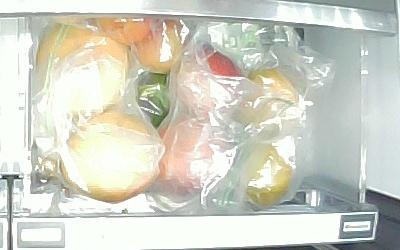apple_vinyl: (158, 113, 236, 201), (172, 43, 242, 112)
grapefruit_vinyl: (58, 110, 161, 204), (37, 23, 131, 110)
persimmon_vinyl: (236, 69, 300, 131), (243, 142, 290, 207)
prune_vinyl: (130, 17, 187, 74), (97, 17, 157, 46)
